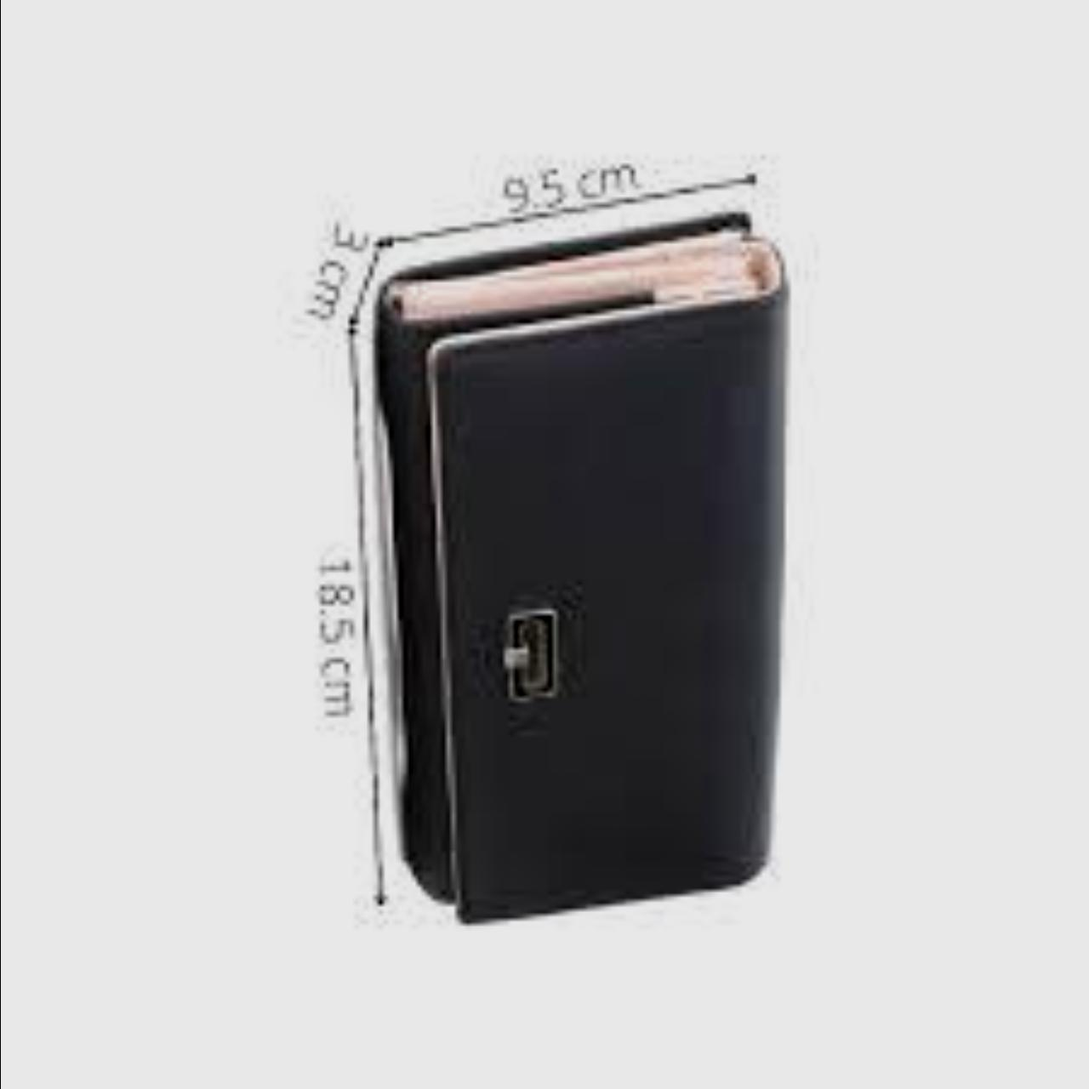wallet: (397, 211, 799, 941)
